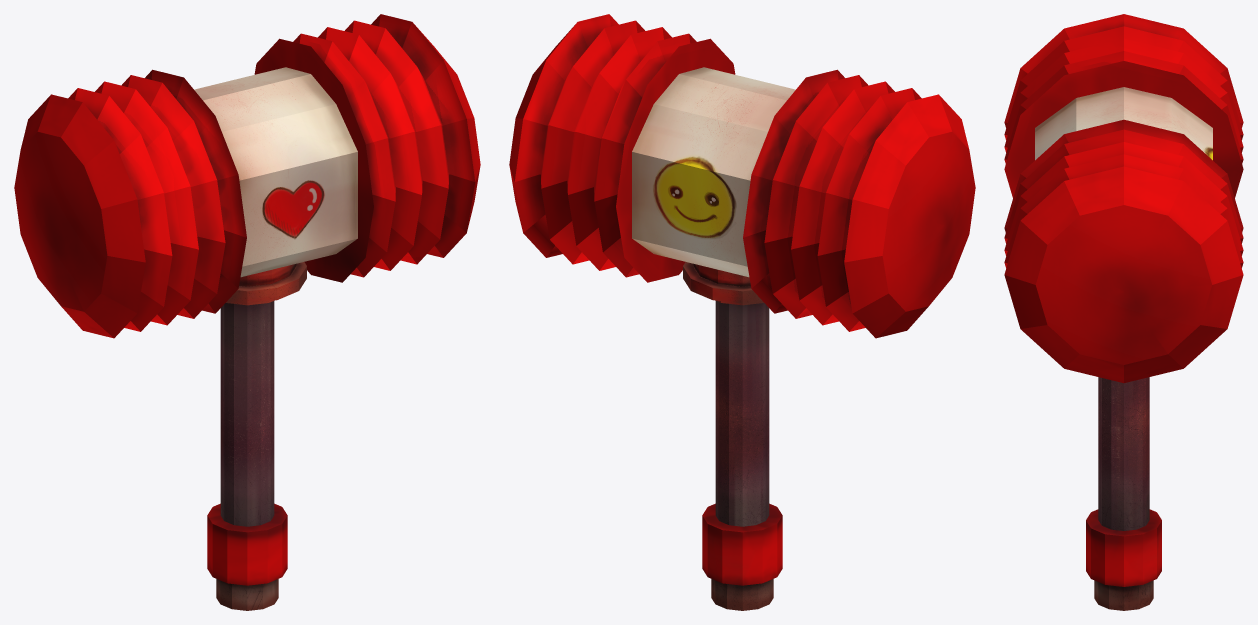
File: mallet.fbx
3 renders of one model, left to right at view 1: azimuth 30°, elevation 25°; view 2: azimuth 150°, elevation 25°; view 3: azimuth 270°, elevation 25°, orthographic. The views are drawn at different scales.
Parts seen in each view (by area): view 1: weapon_Beep_Beep_Mallet; view 2: weapon_Beep_Beep_Mallet; view 3: weapon_Beep_Beep_Mallet.
Part boxes in pixels (x1,y1,x2,y2): weapon_Beep_Beep_Mallet: [14, 14, 480, 610]; weapon_Beep_Beep_Mallet: [509, 14, 975, 610]; weapon_Beep_Beep_Mallet: [1004, 14, 1243, 610].
Size of the model in its own units: 177 by 224 by 95.69.
1 material, 1 textured.
